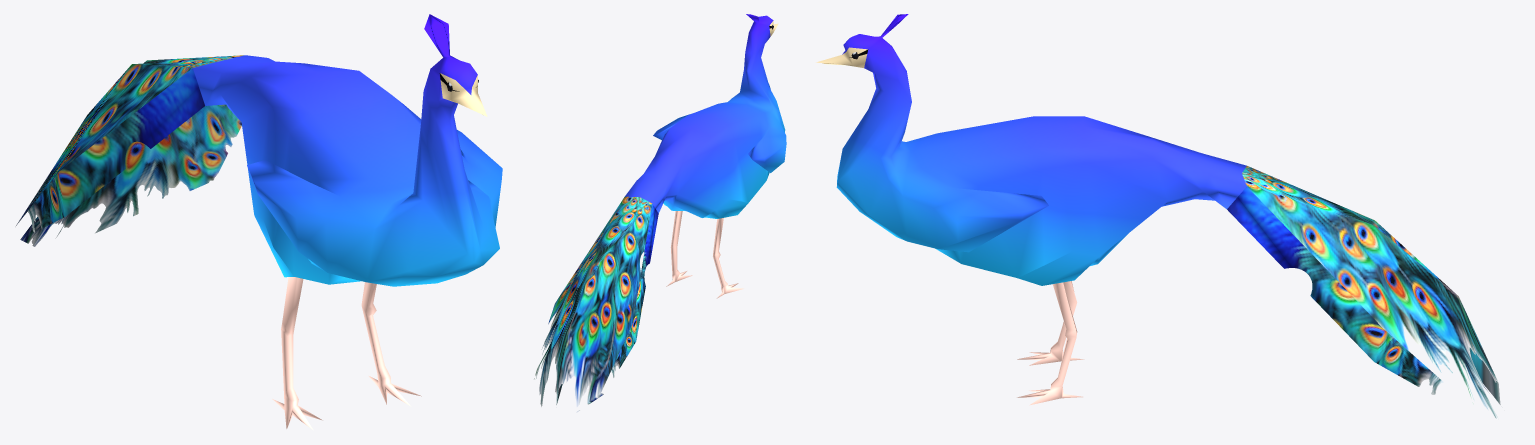
The model's file is Peacock01.glb.
3 renders of one model, left to right at view 1: azimuth 30°, elevation 25°; view 2: azimuth 150°, elevation 25°; view 3: azimuth 270°, elevation 25°, orthographic. The views are drawn at different scales.
Parts seen in each view (by area): view 1: Peacock01; view 2: Peacock01; view 3: Peacock01.
Boxes of the visible parts, left/top/right/bottom form: Peacock01: left=15, top=14, right=502, bottom=430; Peacock01: left=534, top=14, right=786, bottom=412; Peacock01: left=816, top=14, right=1500, bottom=419.
Size of what is drawn, in the model's own units: 0.5364 by 1.29 by 1.97.
2 materials, 2 textured.
